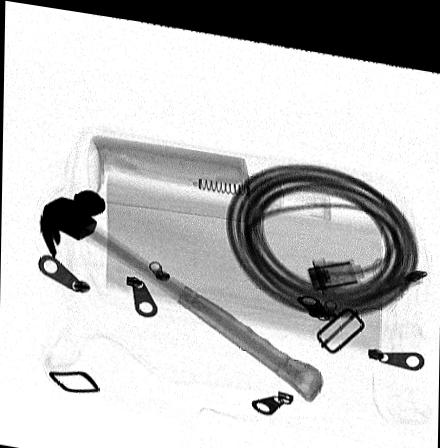Hammer: (39, 184, 322, 393)
